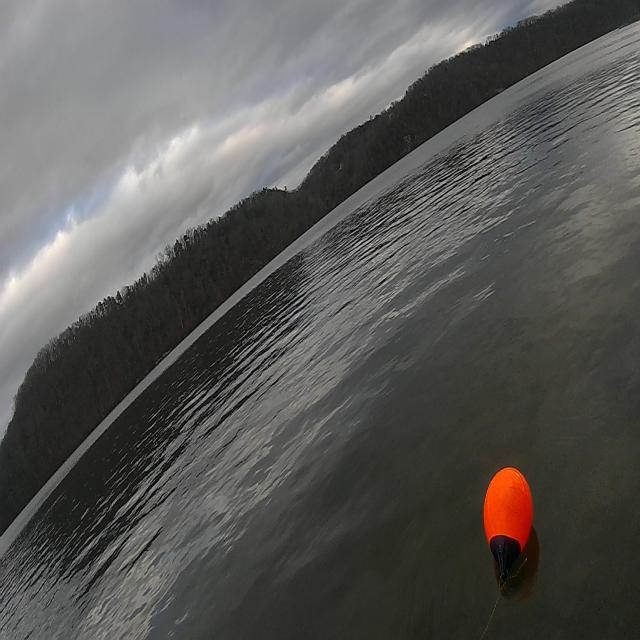Buoy: (476, 463, 544, 601)
